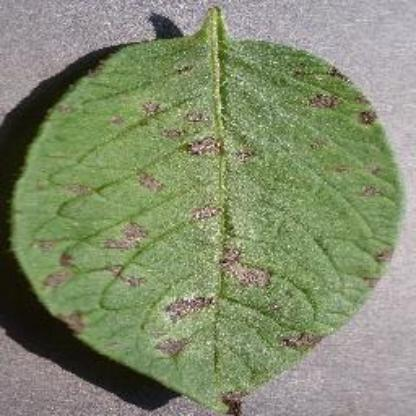Early-Blight: (11, 4, 412, 412)
